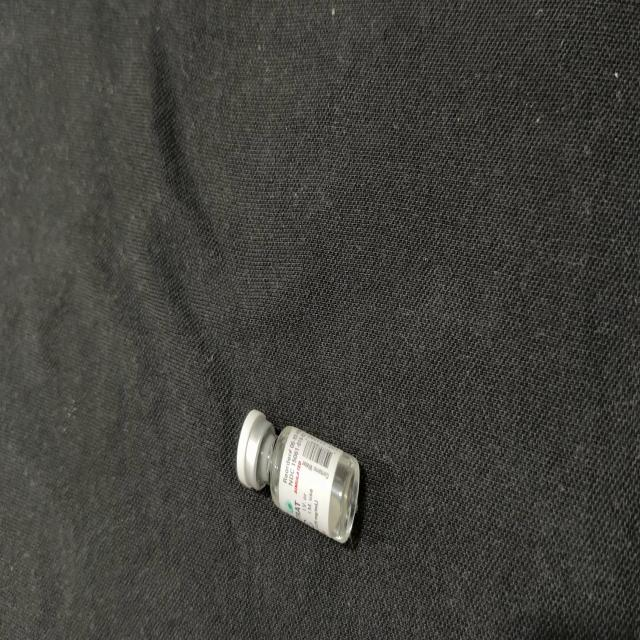fentanl_citrat: (238, 411, 358, 542)
